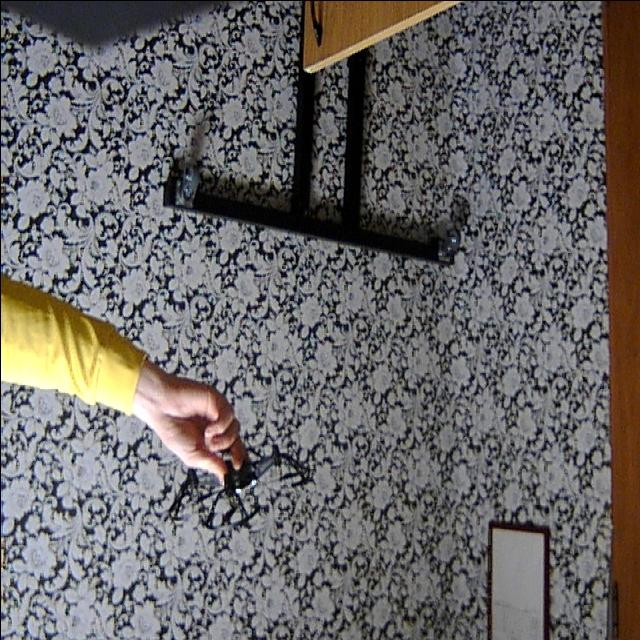drone: (156, 429, 314, 543)
